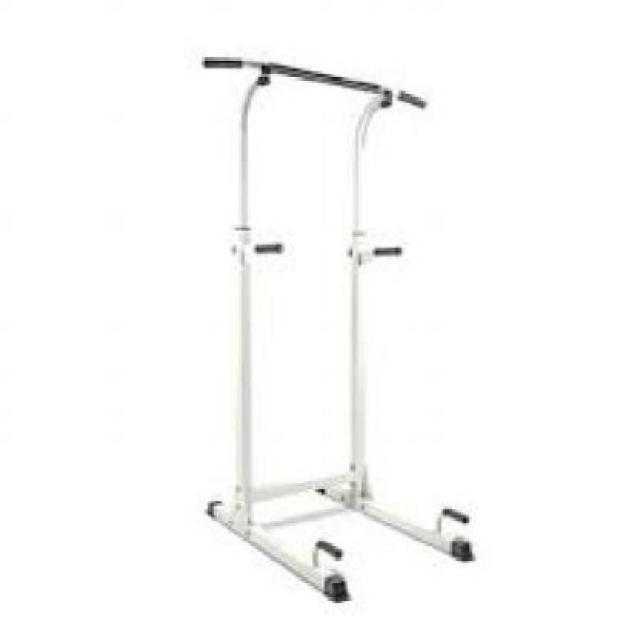chinning dipping: (195, 53, 477, 604)
